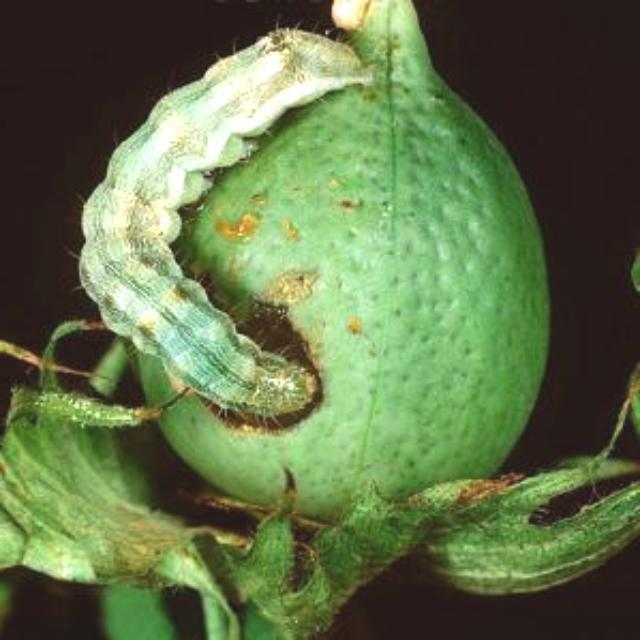Cotton bollworm: (64, 22, 376, 422)
